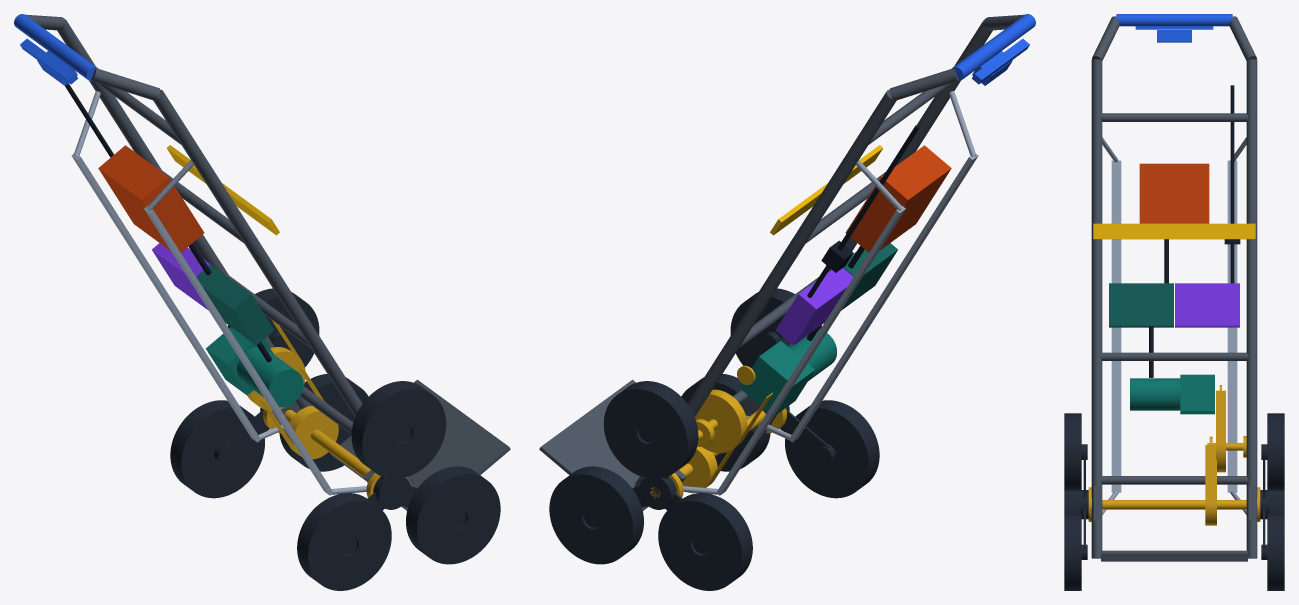
The picture shows the model from 3 angles, left to right: view 1: azimuth 30°, elevation 25°; view 2: azimuth 150°, elevation 25°; view 3: azimuth 270°, elevation 25°; orthographic projection. The views are drawn at different scales.
Visible parts, largest first — view 1: Tri-star wheel clusters (pair), Steel hand truck frame and toe plate, Nosing guard skids, 24 V LiFePO4 pack, 10 Ah, Cluster shaft, bearings and chain drive, Worm gearmotor with brake, 24 V, Motor driver, 24 V 30 A, Handle with dead-man grip, Controller with IMU tilt sensor, Load strap with ratchet, Main switch, fuse and harness; view 2: Tri-star wheel clusters (pair), Steel hand truck frame and toe plate, Nosing guard skids, Cluster shaft, bearings and chain drive, 24 V LiFePO4 pack, 10 Ah, Worm gearmotor with brake, 24 V, Controller with IMU tilt sensor, Handle with dead-man grip, Main switch, fuse and harness, Motor driver, 24 V 30 A, Load strap with ratchet; view 3: Steel hand truck frame and toe plate, Tri-star wheel clusters (pair), Nosing guard skids, 24 V LiFePO4 pack, 10 Ah, Cluster shaft, bearings and chain drive, Worm gearmotor with brake, 24 V, Controller with IMU tilt sensor, Motor driver, 24 V 30 A, Load strap with ratchet, Handle with dead-man grip, Main switch, fuse and harness.
Part boxes in pixels (bbox=[...]): Tri-star wheel clusters (pair): bbox=[170, 288, 500, 590]; Steel hand truck frame and toe plate: bbox=[25, 14, 510, 510]; Nosing guard skids: bbox=[71, 91, 366, 495]; 24 V LiFePO4 pack, 10 Ah: bbox=[98, 145, 204, 252]; Cluster shaft, bearings and chain drive: bbox=[247, 319, 407, 508]; Worm gearmotor with brake, 24 V: bbox=[205, 327, 303, 407]; Motor driver, 24 V 30 A: bbox=[196, 264, 274, 345]; Handle with dead-man grip: bbox=[14, 14, 98, 85]; Controller with IMU tilt sensor: bbox=[152, 243, 210, 310]; Load strap with ratchet: bbox=[167, 145, 279, 235]; Main switch, fuse and harness: bbox=[65, 83, 272, 362]; Tri-star wheel clusters (pair): bbox=[549, 288, 879, 590]; Steel hand truck frame and toe plate: bbox=[539, 14, 1024, 510]; Nosing guard skids: bbox=[683, 91, 978, 495]; Cluster shaft, bearings and chain drive: bbox=[642, 365, 786, 508]; 24 V LiFePO4 pack, 10 Ah: bbox=[845, 145, 951, 252]; Worm gearmotor with brake, 24 V: bbox=[739, 329, 836, 416]; Controller with IMU tilt sensor: bbox=[775, 268, 853, 345]; Handle with dead-man grip: bbox=[951, 14, 1035, 85]; Main switch, fuse and harness: bbox=[807, 125, 919, 340]; Motor driver, 24 V 30 A: bbox=[841, 243, 897, 310]; Load strap with ratchet: bbox=[770, 145, 882, 235]; Steel hand truck frame and toe plate: bbox=[1091, 16, 1257, 561]; Tri-star wheel clusters (pair): bbox=[1064, 413, 1284, 590]; Nosing guard skids: bbox=[1102, 137, 1246, 514]; 24 V LiFePO4 pack, 10 Ah: bbox=[1139, 163, 1209, 223]; Cluster shaft, bearings and chain drive: bbox=[1088, 385, 1260, 525]; Worm gearmotor with brake, 24 V: bbox=[1130, 374, 1214, 414]; Controller with IMU tilt sensor: bbox=[1175, 283, 1239, 327]; Motor driver, 24 V 30 A: bbox=[1109, 283, 1173, 327]; Load strap with ratchet: bbox=[1093, 223, 1255, 239]; Handle with dead-man grip: bbox=[1116, 14, 1232, 42]; Main switch, fuse and harness: bbox=[1149, 85, 1240, 377].
Size of the model in its own units: 1 by 1.26 by 0.569.
